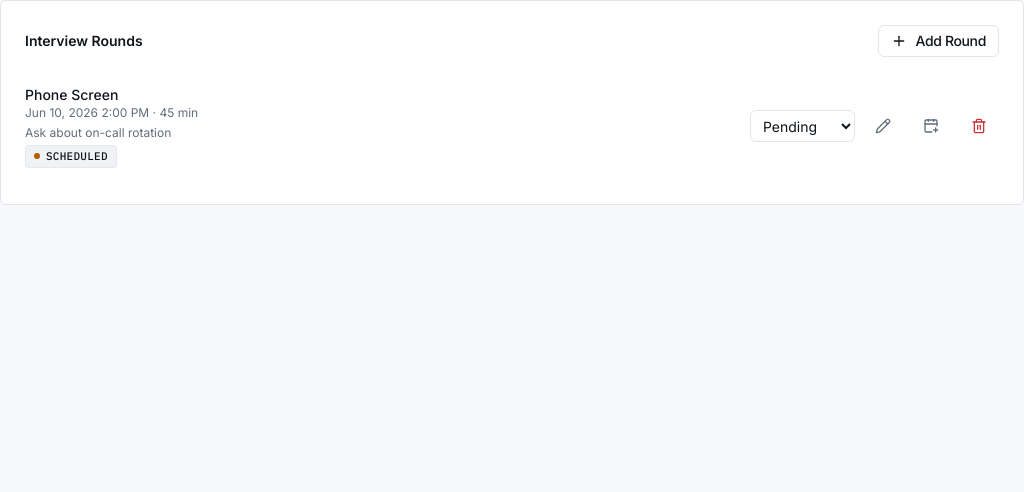
Test: InterviewRounds › edit flow › never patches when nothing changed and closes the form
Click the button named "edit phone screen".
click(883, 126)  # box 863,110 -> 903,142
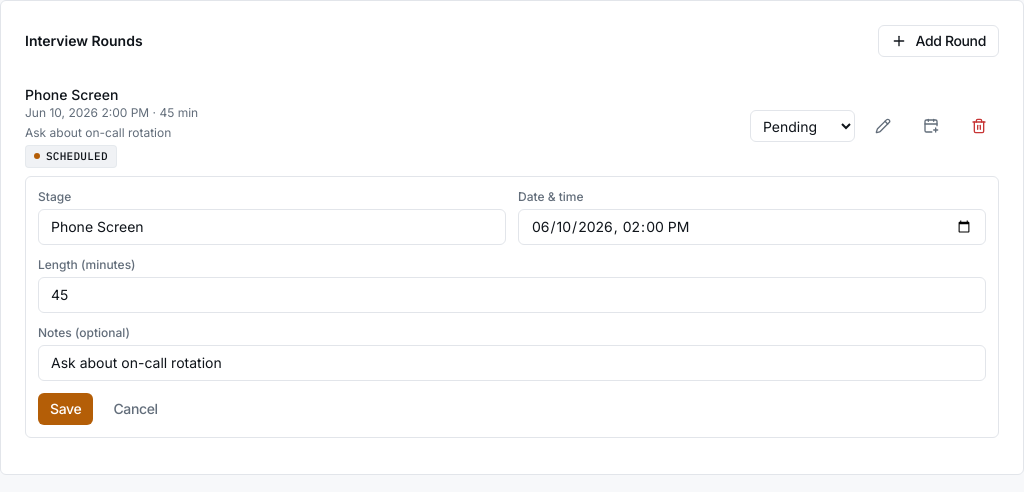
Click the button "Save".
click(66, 408)  # box 38,392 -> 93,424
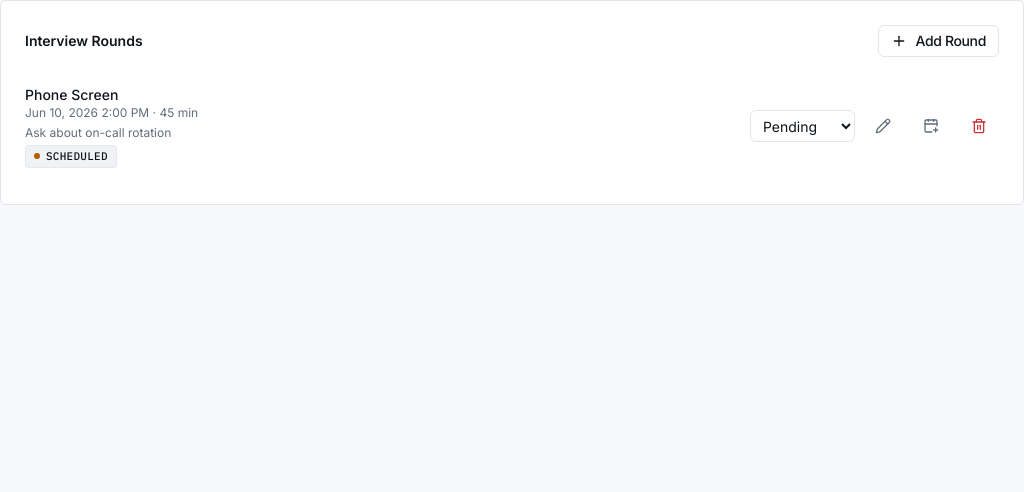
Expected: the label labelled "Stage" is gone
